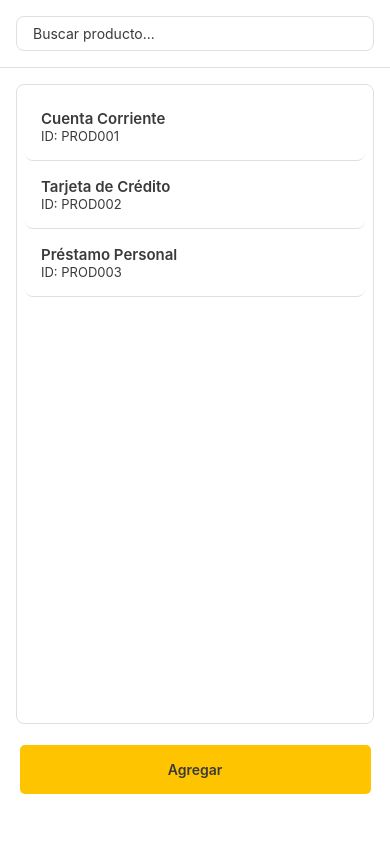
Test: ProductsListScreen › búsqueda de productos › debe filtrar productos por ID
Expected: the text "Cuenta Corriente" is shown, top-left (41, 109), bottom-right (165, 128)
In the field with placeholder "Buscar producto...": (195, 34) top-left (16, 16), bottom-right (374, 51), type "PROD002"
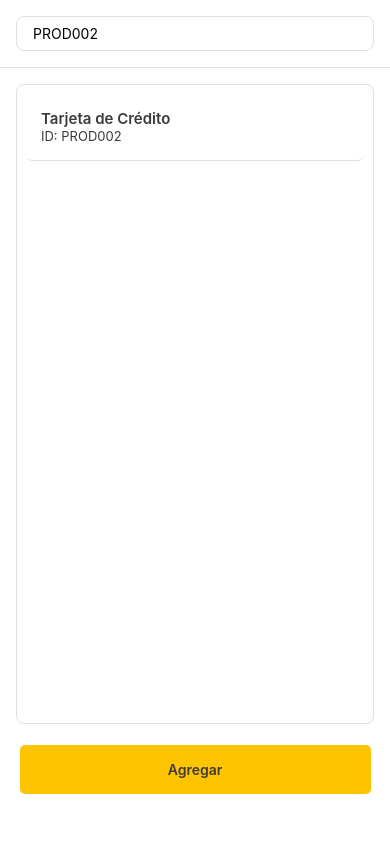
Expected: the text "Tarjeta de Crédito" is shown, top-left (41, 109), bottom-right (170, 128)
Expected: the text "Préstamo Personal" is gone
